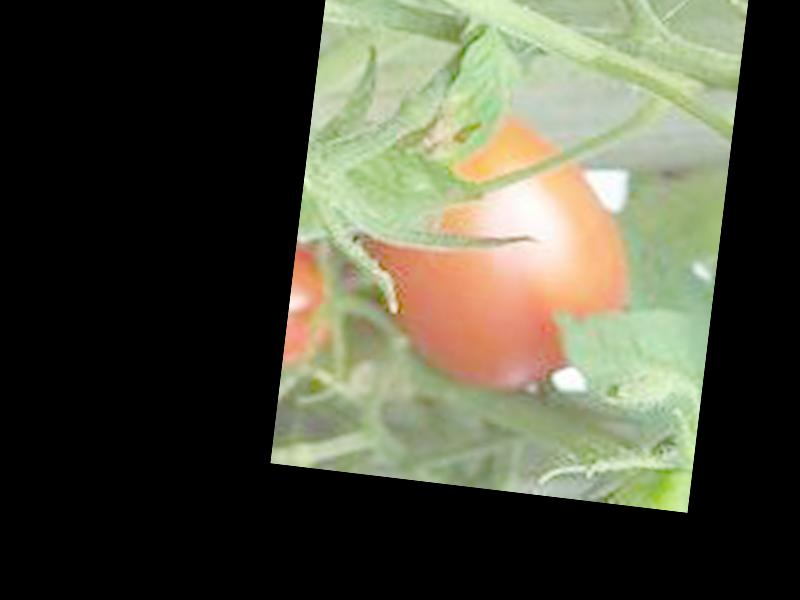Tomato: (361, 107, 647, 401)
